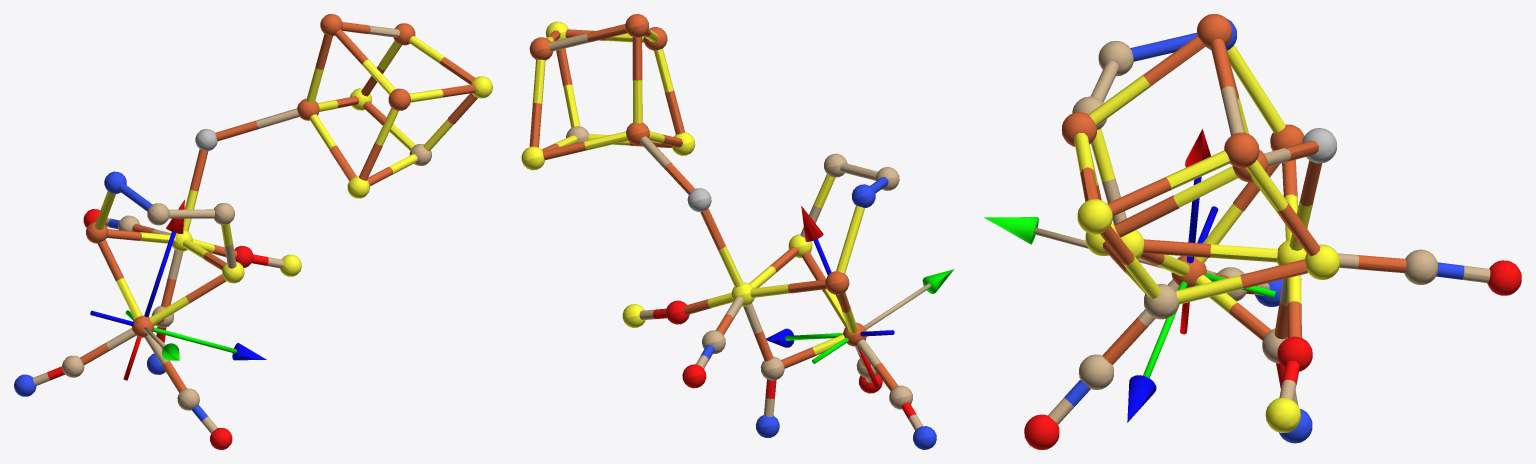
The model's file is FeFeHyd3.obj.
3 views of the same model, side by side, from view 1: azimuth 30°, elevation 25°; view 2: azimuth 150°, elevation 25°; view 3: azimuth 270°, elevation 25° (orthographic). The views are drawn at different scales.
Size of the model in its own units: 32.07 by 25.82 by 22.5.
